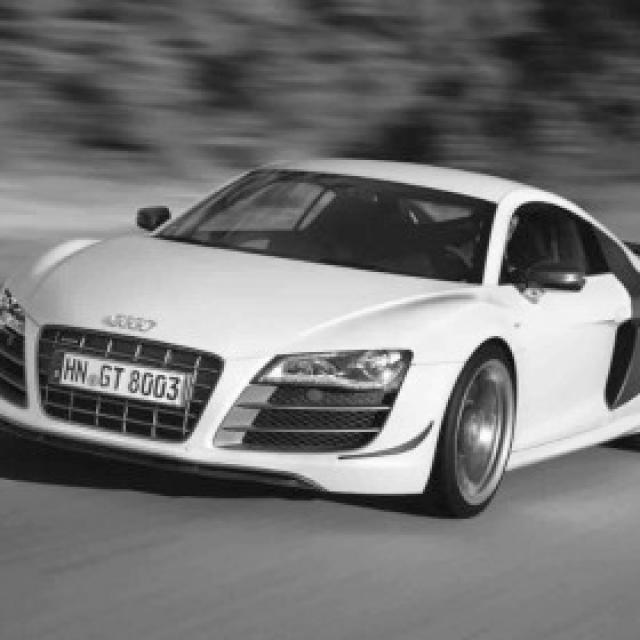car: (0, 155, 638, 519)
plat_license: (48, 348, 188, 409)
